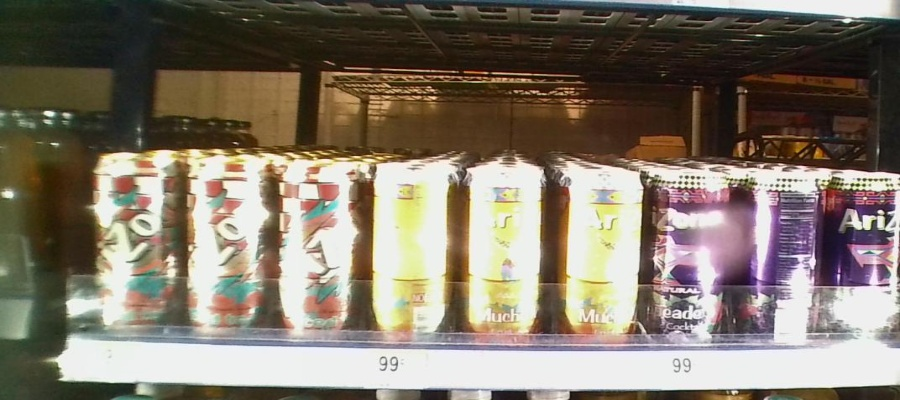bottle: (550, 147, 649, 353), (456, 147, 548, 351), (90, 146, 183, 337), (366, 148, 454, 347), (275, 144, 362, 340), (735, 159, 822, 340), (186, 148, 270, 334), (651, 159, 730, 340), (827, 167, 900, 342)
